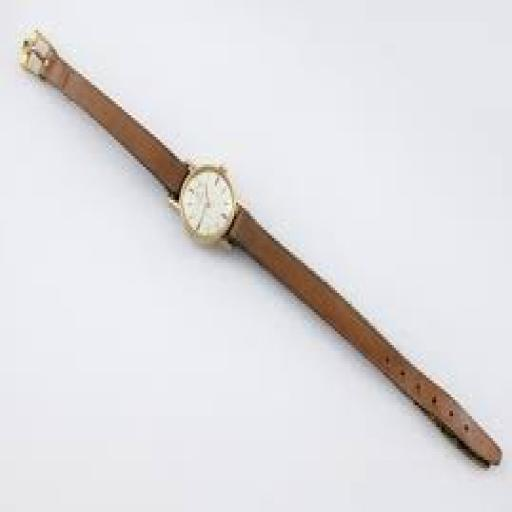KolSaati: (28, 22, 492, 512)
